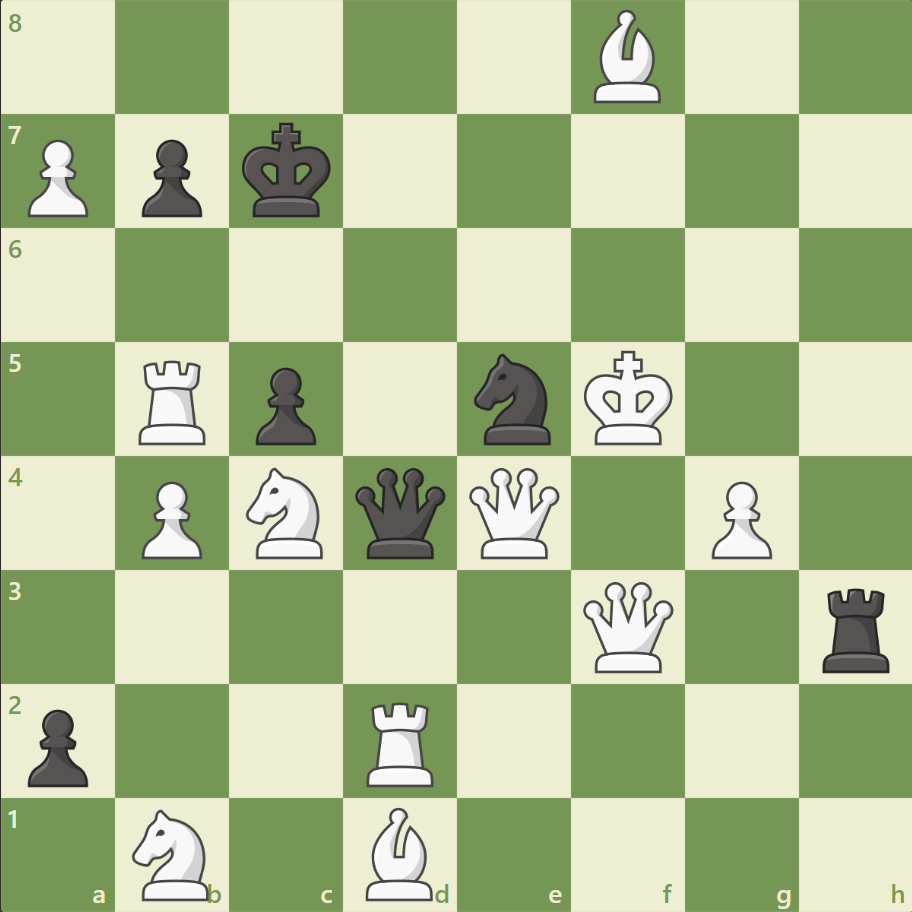B: (585, 6, 669, 109), (358, 801, 442, 904)
K: (579, 344, 679, 452)
N: (124, 802, 222, 904), (238, 461, 335, 564)
P: (20, 132, 95, 223), (133, 473, 208, 564), (701, 473, 776, 564)
Q: (578, 576, 677, 676), (464, 463, 563, 562)
R: (133, 352, 215, 449), (360, 693, 442, 790)
k: (238, 117, 338, 225)
n: (465, 348, 562, 450)
p: (133, 132, 208, 223), (247, 359, 322, 450), (20, 700, 95, 791)
q: (351, 463, 450, 562)
r: (814, 579, 897, 676)
